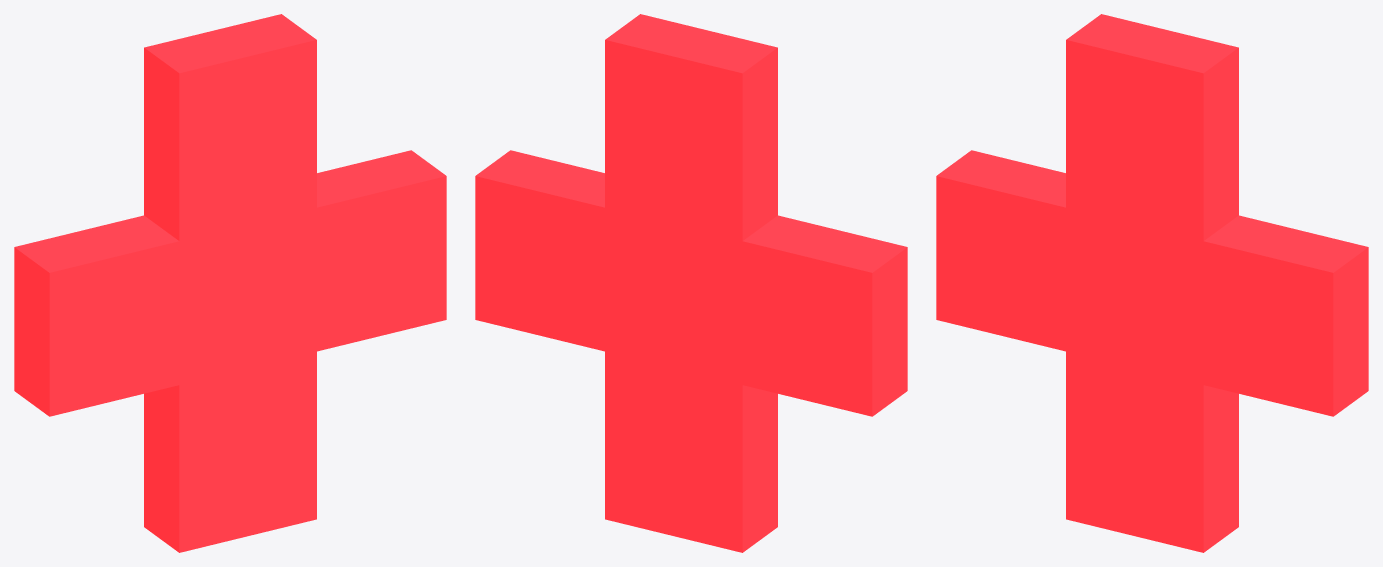
The model's file is effect-field-medic.glb.
3 views of the same model, side by side, from view 1: azimuth 30°, elevation 25°; view 2: azimuth 150°, elevation 25°; view 3: azimuth 330°, elevation 25° (orthographic).
Parts seen in each view (by area): view 1: FieldMedicCrossVertical, FieldMedicCrossHorizontal; view 2: FieldMedicCrossVertical, FieldMedicCrossHorizontal; view 3: FieldMedicCrossVertical, FieldMedicCrossHorizontal.
Part boxes in pixels (box(x1,y1,x2,y2)): FieldMedicCrossVertical: box(144, 14, 316, 552); FieldMedicCrossHorizontal: box(14, 150, 446, 416); FieldMedicCrossVertical: box(605, 14, 777, 552); FieldMedicCrossHorizontal: box(475, 150, 907, 416); FieldMedicCrossVertical: box(1066, 14, 1238, 552); FieldMedicCrossHorizontal: box(936, 150, 1368, 416).
Bounding box in the file's own units: 0.26 × 0.3 × 0.04.
